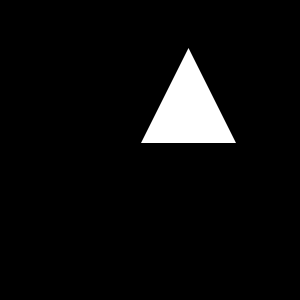triangle: (141, 48, 236, 143)
